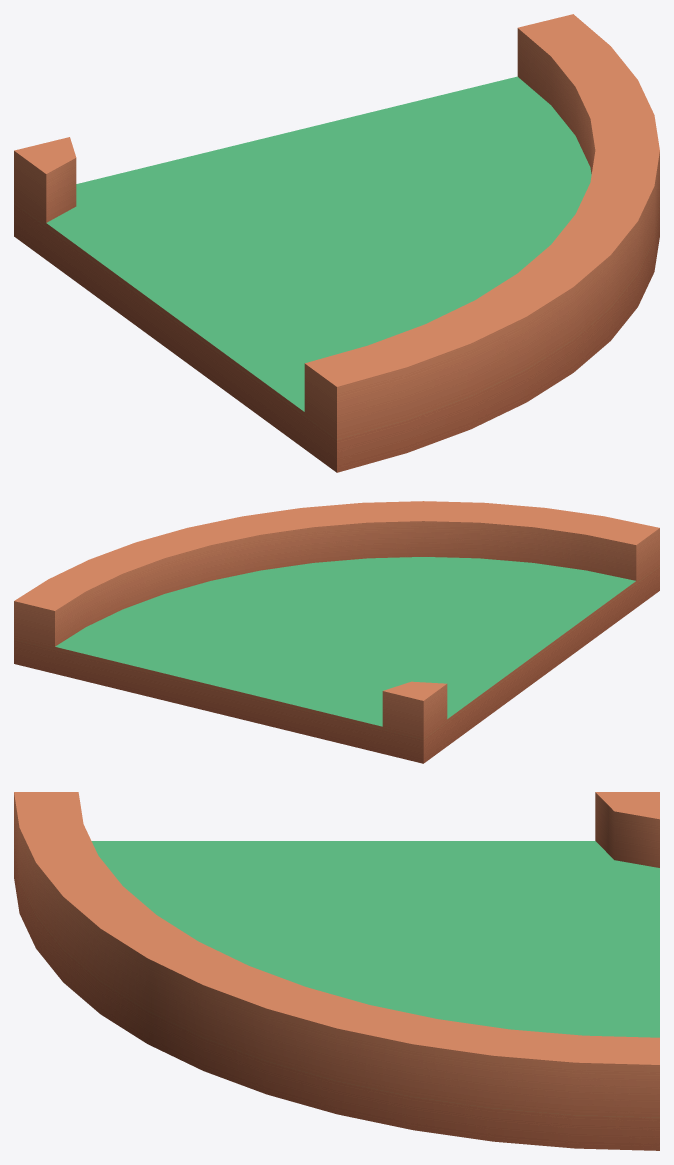
File: round-corner-a.glb
The picture shows the model from 3 angles, top to bottom: view 1: azimuth 30°, elevation 25°; view 2: azimuth 150°, elevation 25°; view 3: azimuth 270°, elevation 25°; orthographic projection. The views are drawn at different scales.
Visible parts, largest first — view 1: round-corner-a; view 2: round-corner-a; view 3: round-corner-a.
Boxes of the visible parts, left/top/right/bottom form: round-corner-a: left=14, top=14, right=659, bottom=472; round-corner-a: left=14, top=501, right=659, bottom=763; round-corner-a: left=14, top=792, right=659, bottom=1150.
Size of the model in its own units: 0.9999 by 0.1467 by 0.9999.
1 material, 1 textured.
